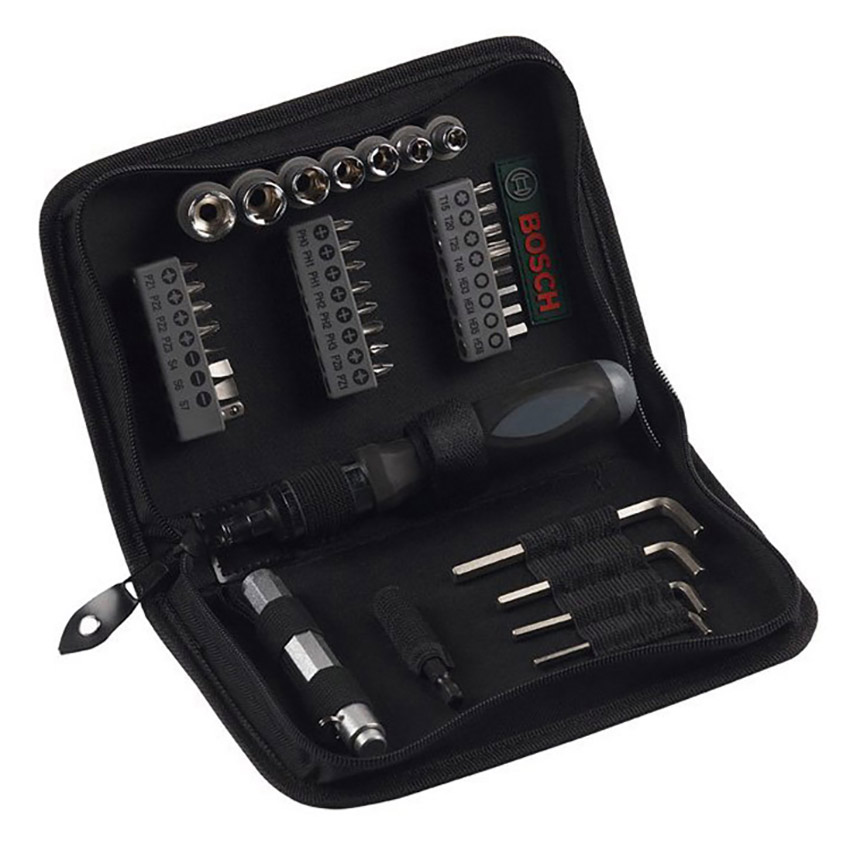Bosch: (514, 205, 572, 313)
